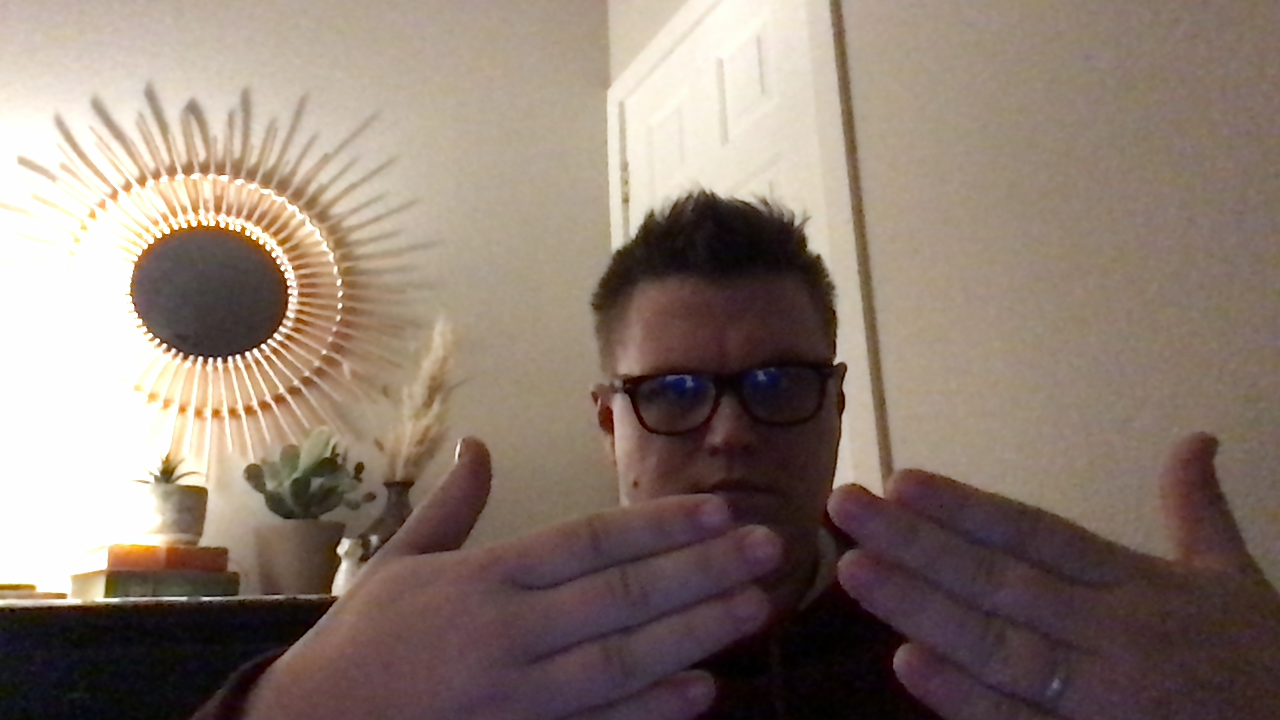thankyou: (246, 429, 1280, 720)
